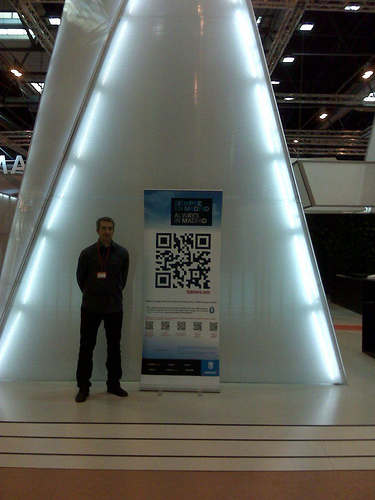QR-CODE: (155, 233, 210, 288), (161, 321, 169, 329), (193, 322, 201, 330), (146, 321, 153, 329), (178, 321, 185, 329), (210, 322, 217, 330)
